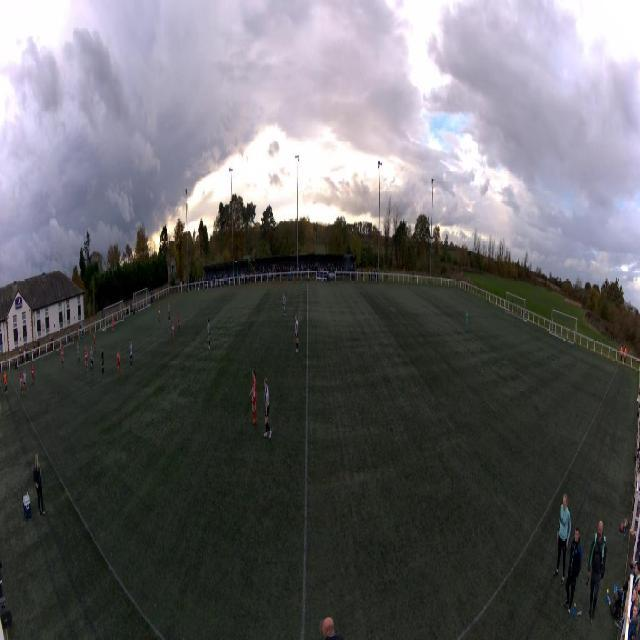player: (263, 377, 272, 439), (251, 371, 257, 423), (295, 315, 300, 353), (116, 347, 120, 379), (207, 319, 211, 349), (129, 342, 133, 370), (90, 347, 94, 375), (84, 346, 88, 372), (19, 368, 23, 394), (22, 369, 26, 395), (282, 293, 286, 318), (465, 309, 469, 333), (31, 363, 35, 385), (61, 345, 65, 367), (76, 343, 80, 364), (101, 347, 104, 375), (171, 317, 174, 344), (178, 309, 180, 330), (94, 332, 96, 352), (168, 303, 170, 322), (158, 305, 160, 323), (112, 317, 114, 332)
